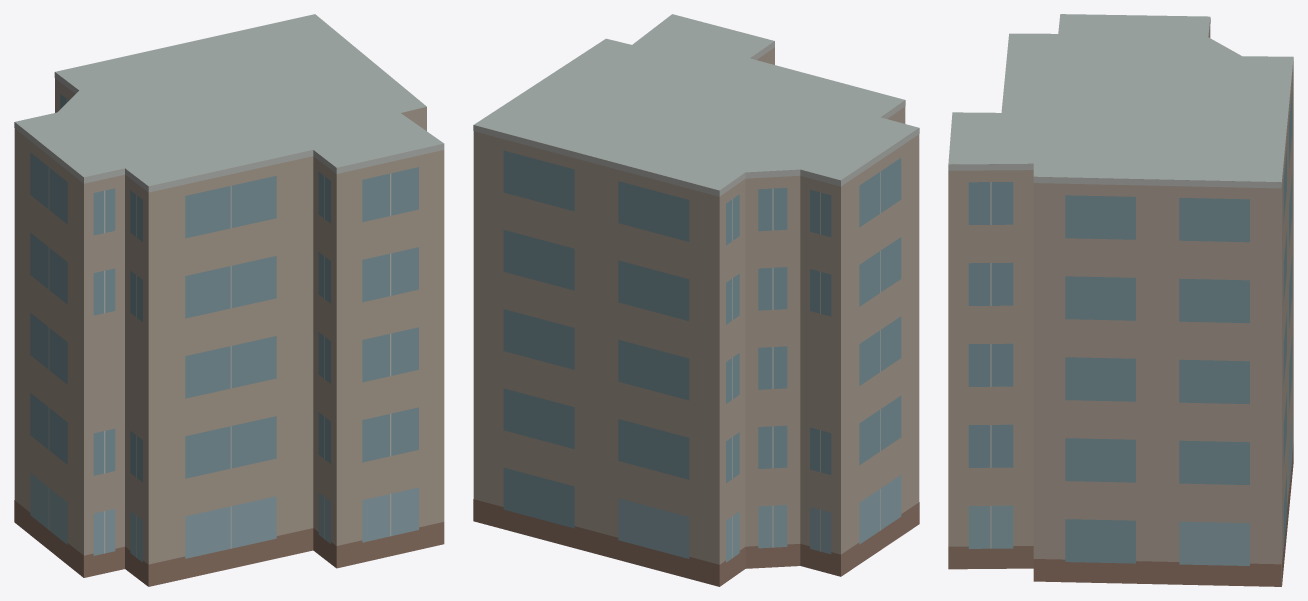
The model's file is survey-upis-32925900.glb.
3 views of the same model, side by side, from view 1: azimuth 30°, elevation 25°; view 2: azimuth 150°, elevation 25°; view 3: azimuth 270°, elevation 25° (orthographic). The views are drawn at different scales.
Visible parts, largest first — view 1: survey-upis-32925900.tmp; view 2: survey-upis-32925900.tmp; view 3: survey-upis-32925900.tmp.
Part boxes in pixels (<box>): survey-upis-32925900.tmp: <box>14,14,444,586</box>; survey-upis-32925900.tmp: <box>473,14,919,586</box>; survey-upis-32925900.tmp: <box>948,14,1293,586</box>.
Bounding box in the file's own units: 13.91 × 15.6 × 12.07.
